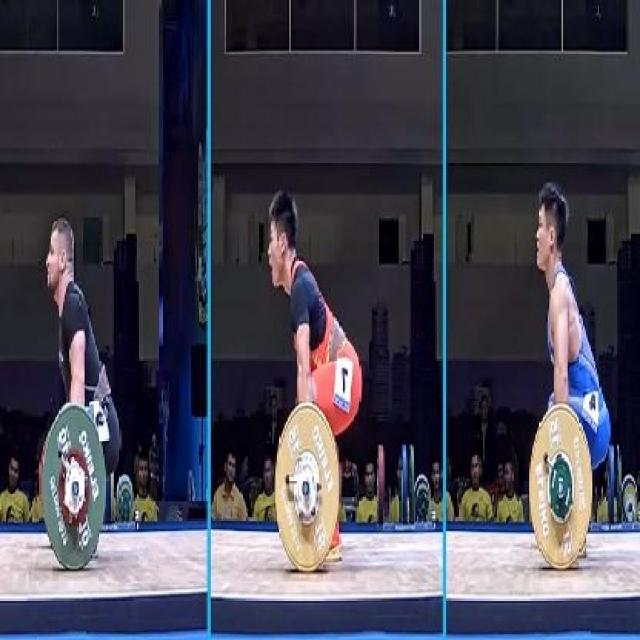Barbell: (554, 476, 568, 504), (300, 476, 312, 504), (70, 476, 82, 504)
